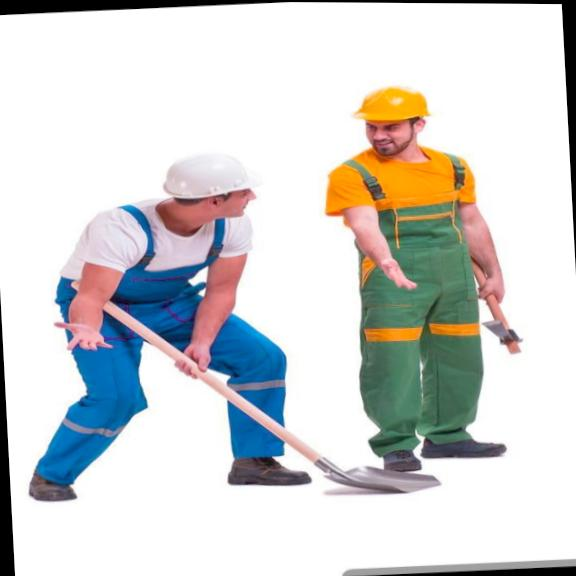no_safety_vest: (321, 143, 490, 300), (68, 211, 254, 325)
